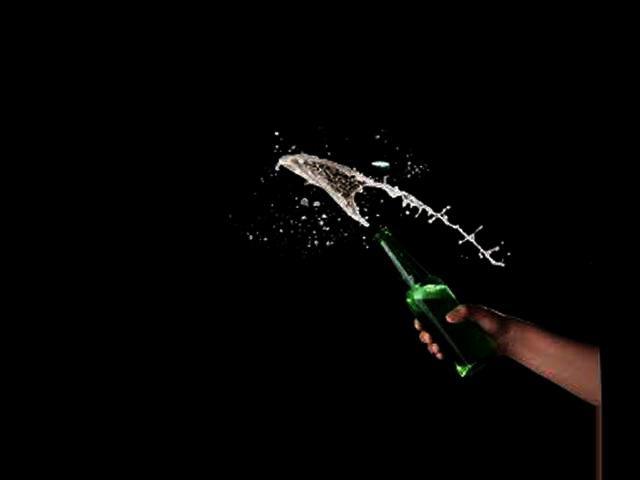beer: (372, 228, 496, 380)
